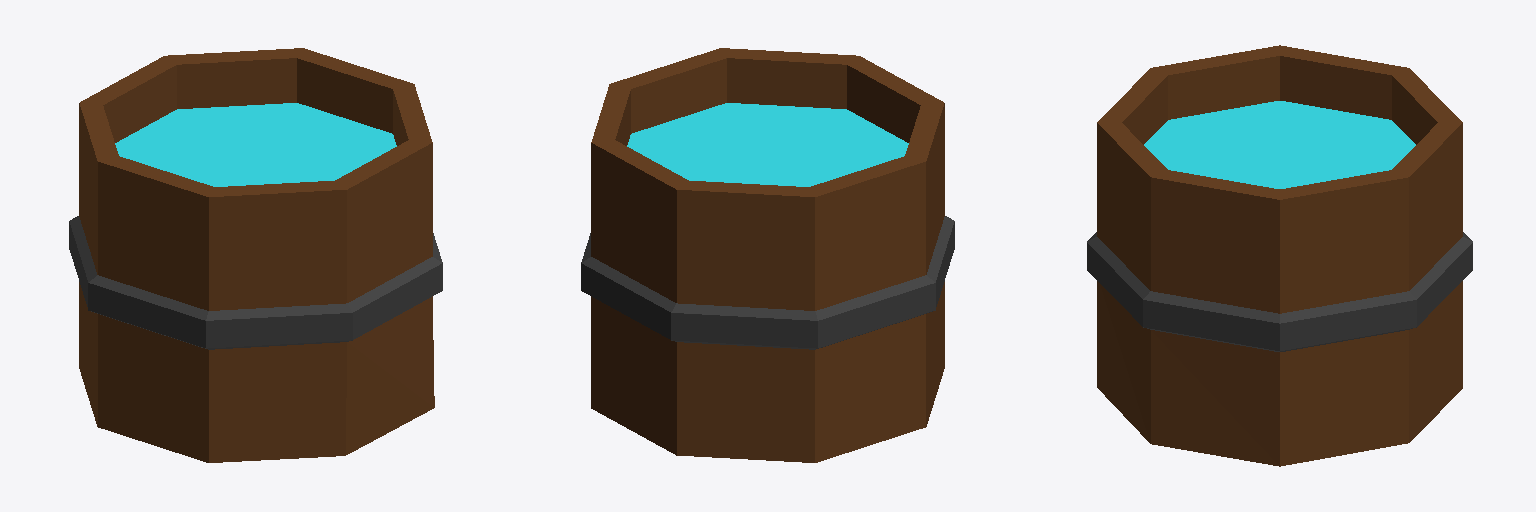
3 views of the same model, side by side, from view 1: azimuth 30°, elevation 25°; view 2: azimuth 150°, elevation 25°; view 3: azimuth 270°, elevation 25° (orthographic).
Parts seen in each view (by area): view 1: Pot_Mat.8_0, Pot_Mat.9_0, Pot_Mat.7_0; view 2: Pot_Mat.8_0, Pot_Mat.9_0, Pot_Mat.7_0; view 3: Pot_Mat.8_0, Pot_Mat.9_0, Pot_Mat.7_0.
Part boxes in pixels (bbox=[...]): Pot_Mat.8_0: bbox=[79, 48, 434, 462]; Pot_Mat.9_0: bbox=[115, 103, 396, 186]; Pot_Mat.7_0: bbox=[69, 216, 442, 349]; Pot_Mat.8_0: bbox=[591, 48, 944, 462]; Pot_Mat.9_0: bbox=[627, 103, 908, 186]; Pot_Mat.7_0: bbox=[581, 216, 954, 349]; Pot_Mat.8_0: bbox=[1097, 45, 1462, 466]; Pot_Mat.9_0: bbox=[1144, 101, 1415, 188]; Pot_Mat.7_0: bbox=[1087, 232, 1472, 351].
Size of the model in its own units: 184 by 140 by 184.